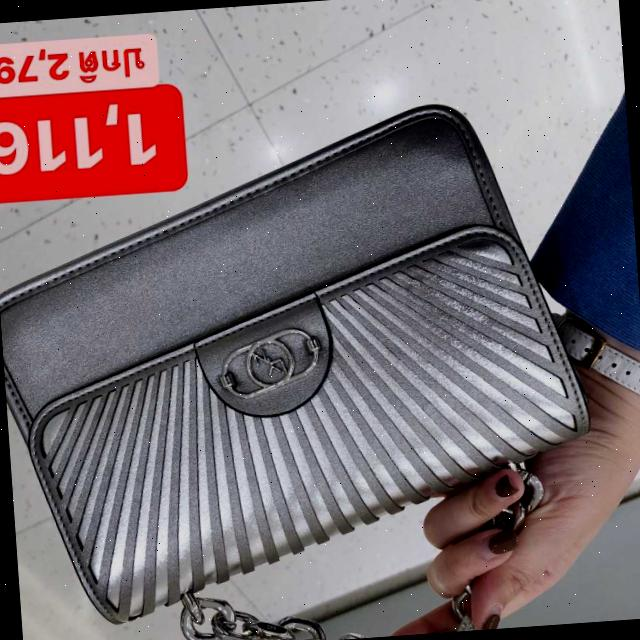Handbag: (0, 83, 607, 622)
